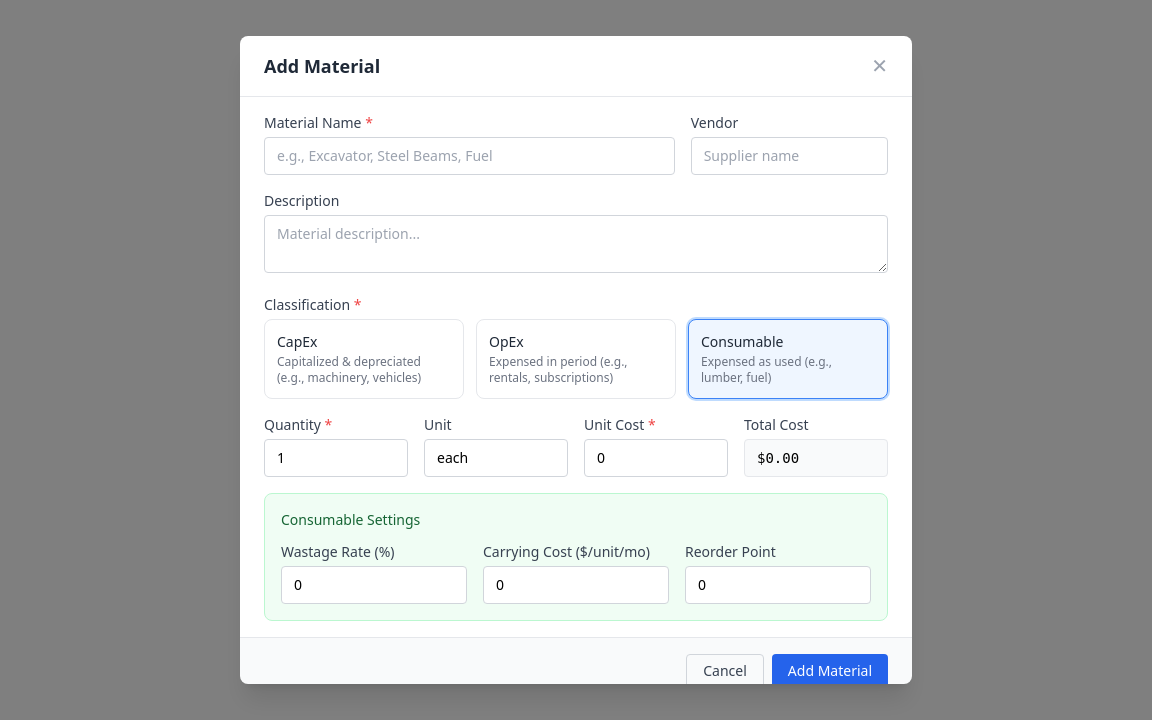
MaterialEditorModal › shows OpEx fields when classification is OpEx
Click OpEx classification
What coordinates should you click on to do the following:
click the text "OpEx"
I would click on:
 (506, 342)
Its box is [489, 332, 524, 351].
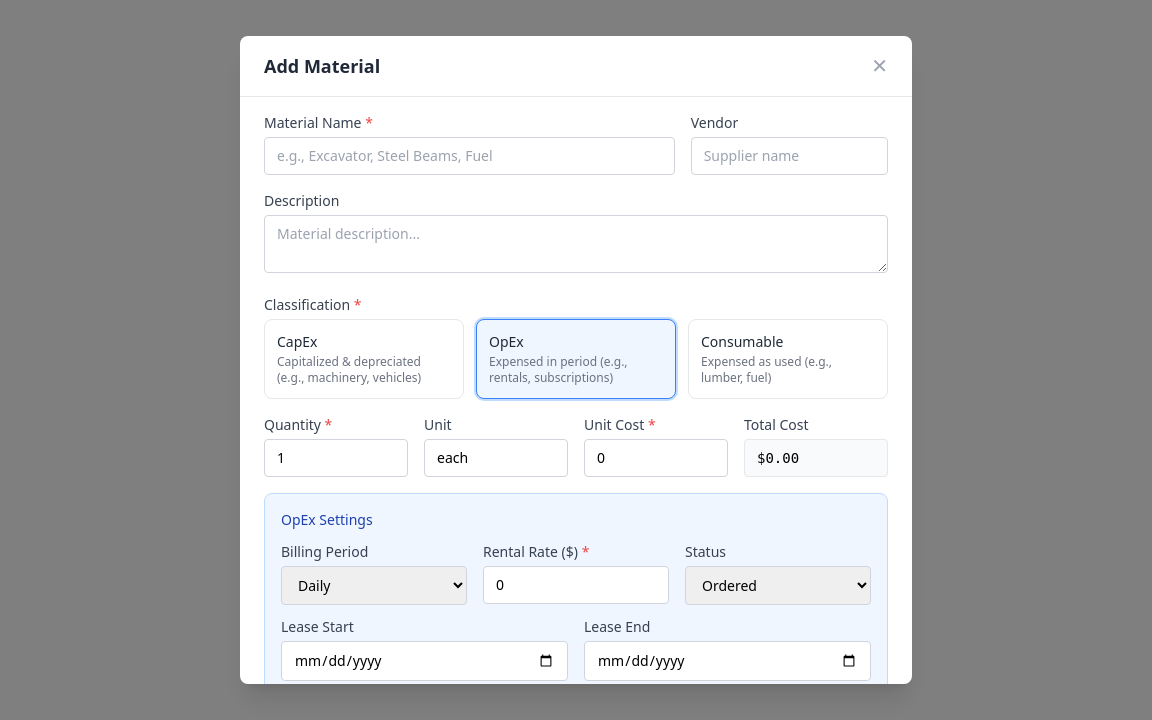
Expected: the text "OpEx Settings" is shown, [281, 510, 373, 529]
Expected: the text "Billing Period" is shown, [281, 542, 368, 561]
